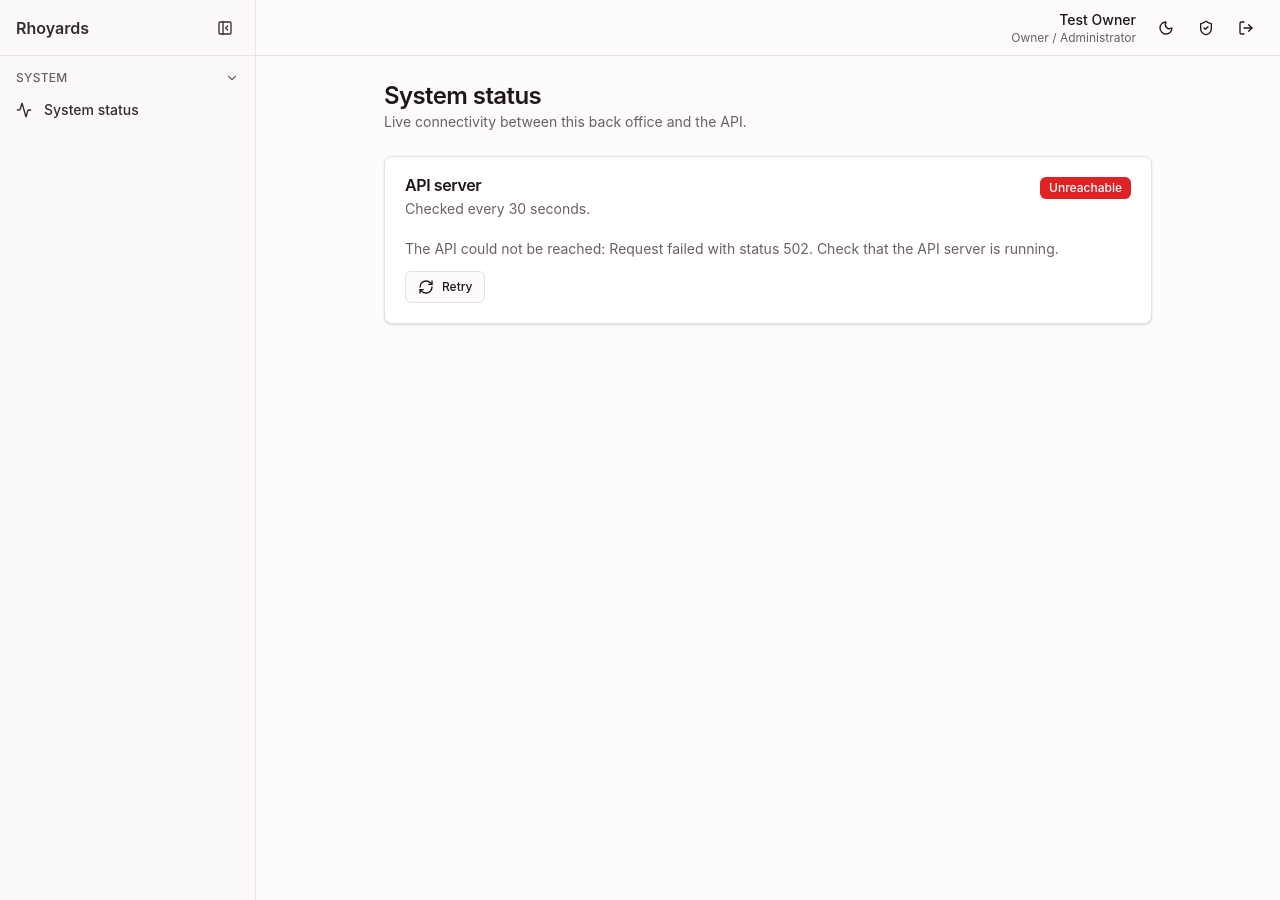
SystemStatusPage › shows an error with a working retry when the API is down
The width and height of the screenshot is (1280, 900).
Expected: the text "Unreachable" is shown, [1040,177,1131,199]
Expected: the message shows "Request failed with status 502", [609,240,809,257]
Click the button "Retry": (445, 287) [405,271,486,303]
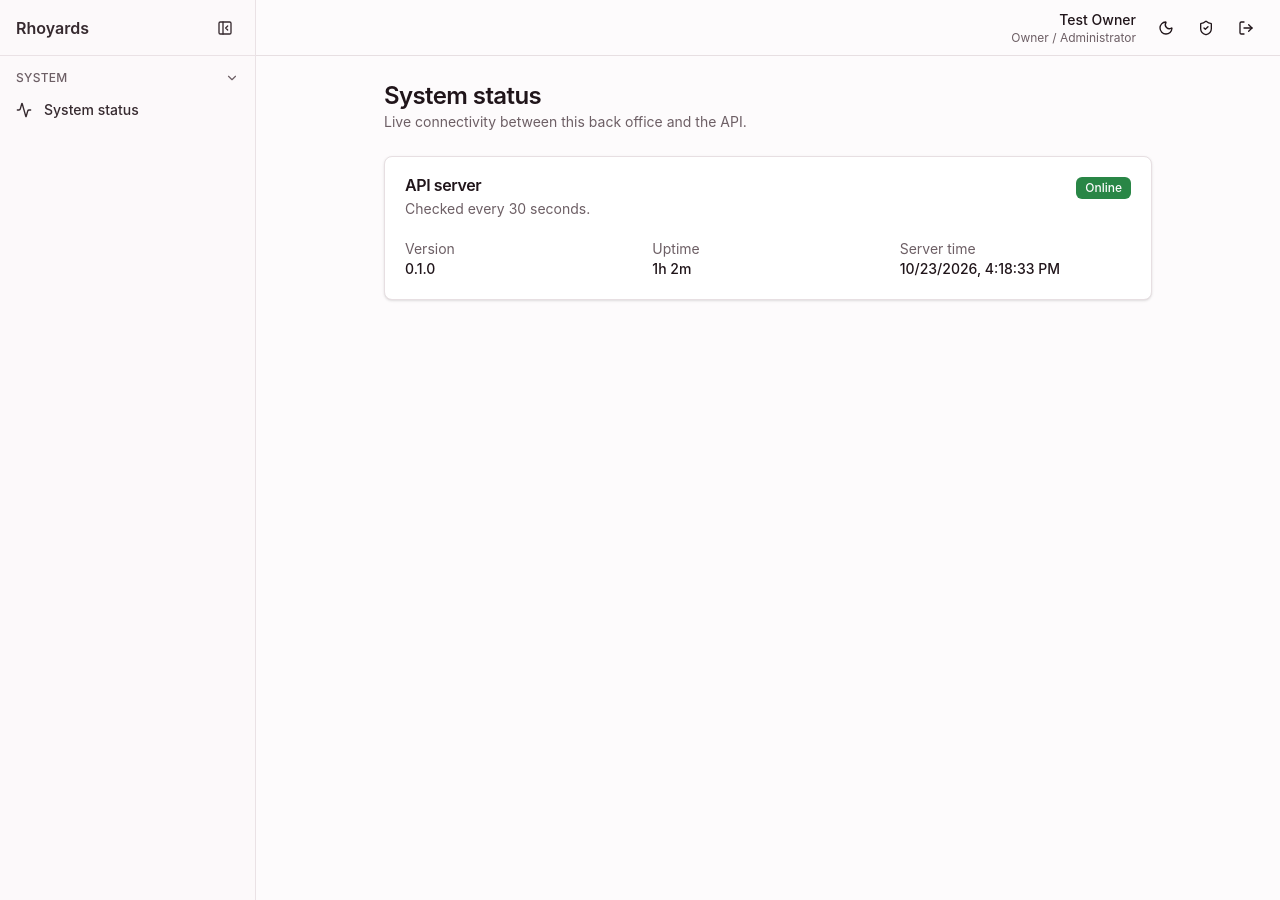
Expected: the text "Online" is shown, [1076,177,1131,199]
